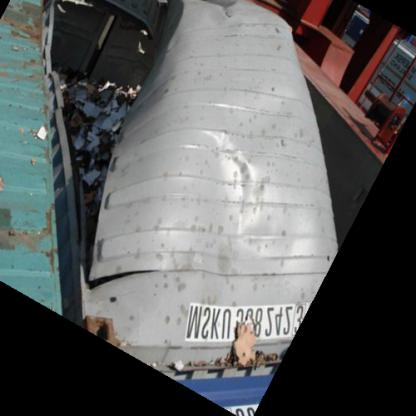Damage: (16, 19, 177, 240), (175, 293, 281, 381)
